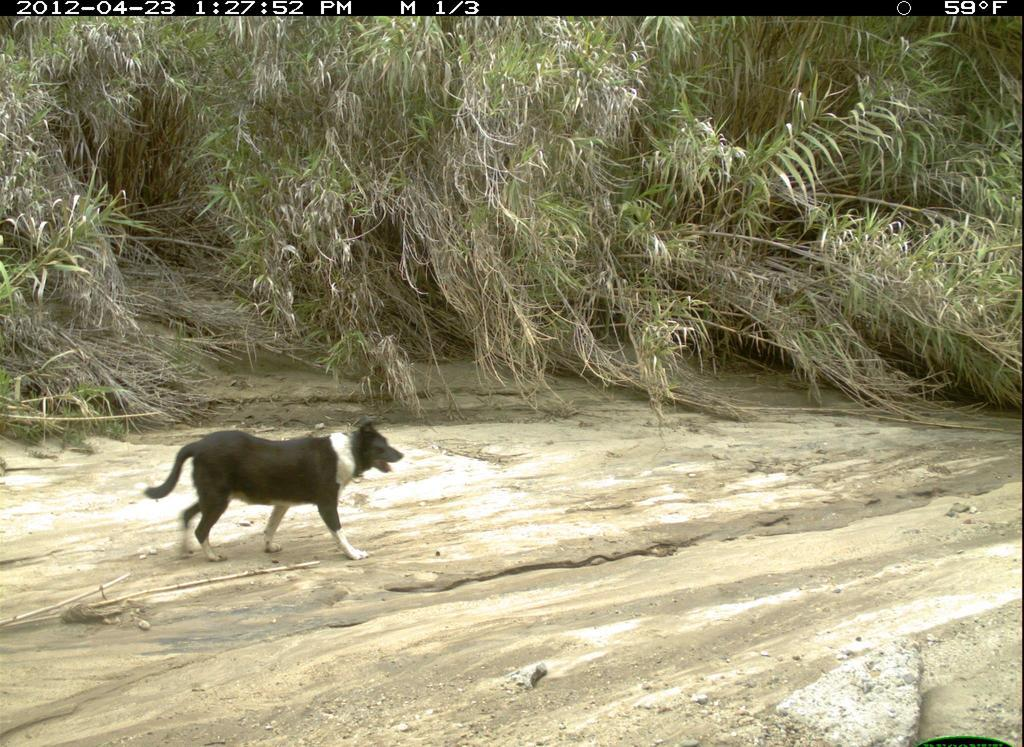dog: (129, 409, 409, 596)
